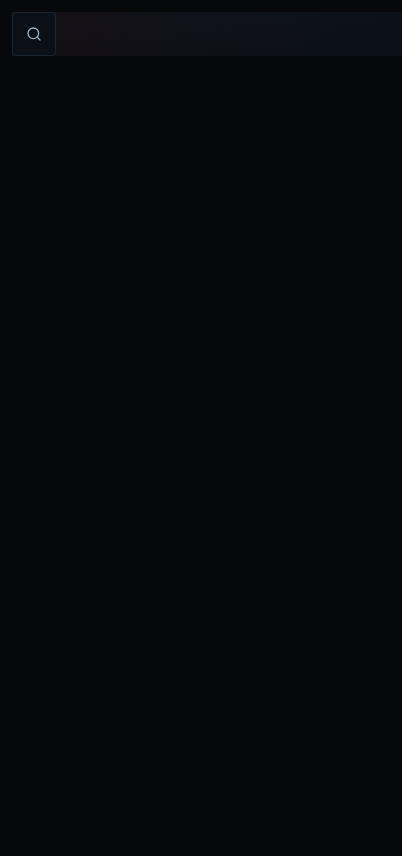
Test case: o comportamento da busca no celular › o botão abre a busca, leva o foco ao campo, e o X fecha
What coordinates should you click on to do the following:
click the button named "abrir busca"
I would click on:
 (34, 34)
Its box is [12, 12, 56, 56].
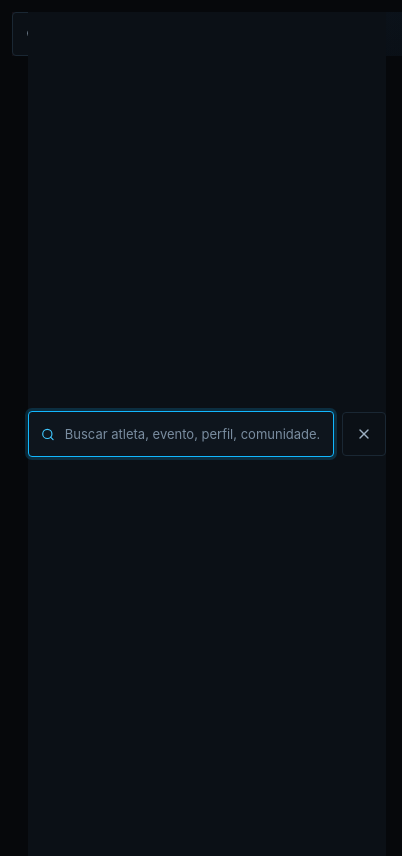
Check: the button named "abrir busca" is expanded, box [12, 12, 56, 56]
What coordinates should you click on to do the following:
click the button named "fechar busca"
I would click on:
 (364, 434)
Its box is [342, 412, 386, 456].
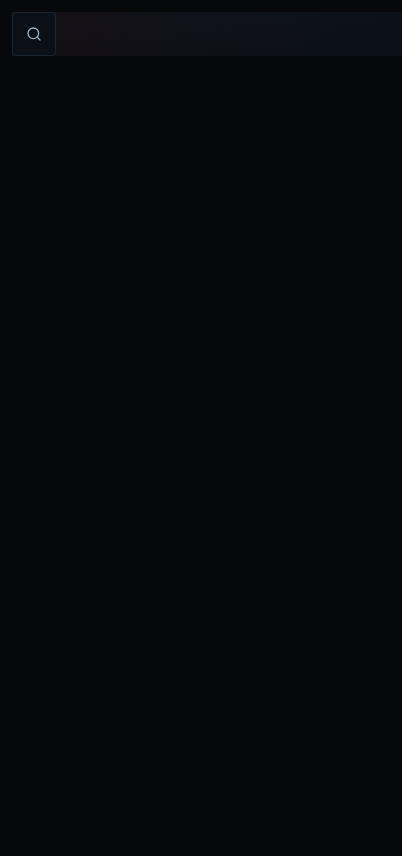
Check: the button named "abrir busca" is collapsed, box [12, 12, 56, 56]
